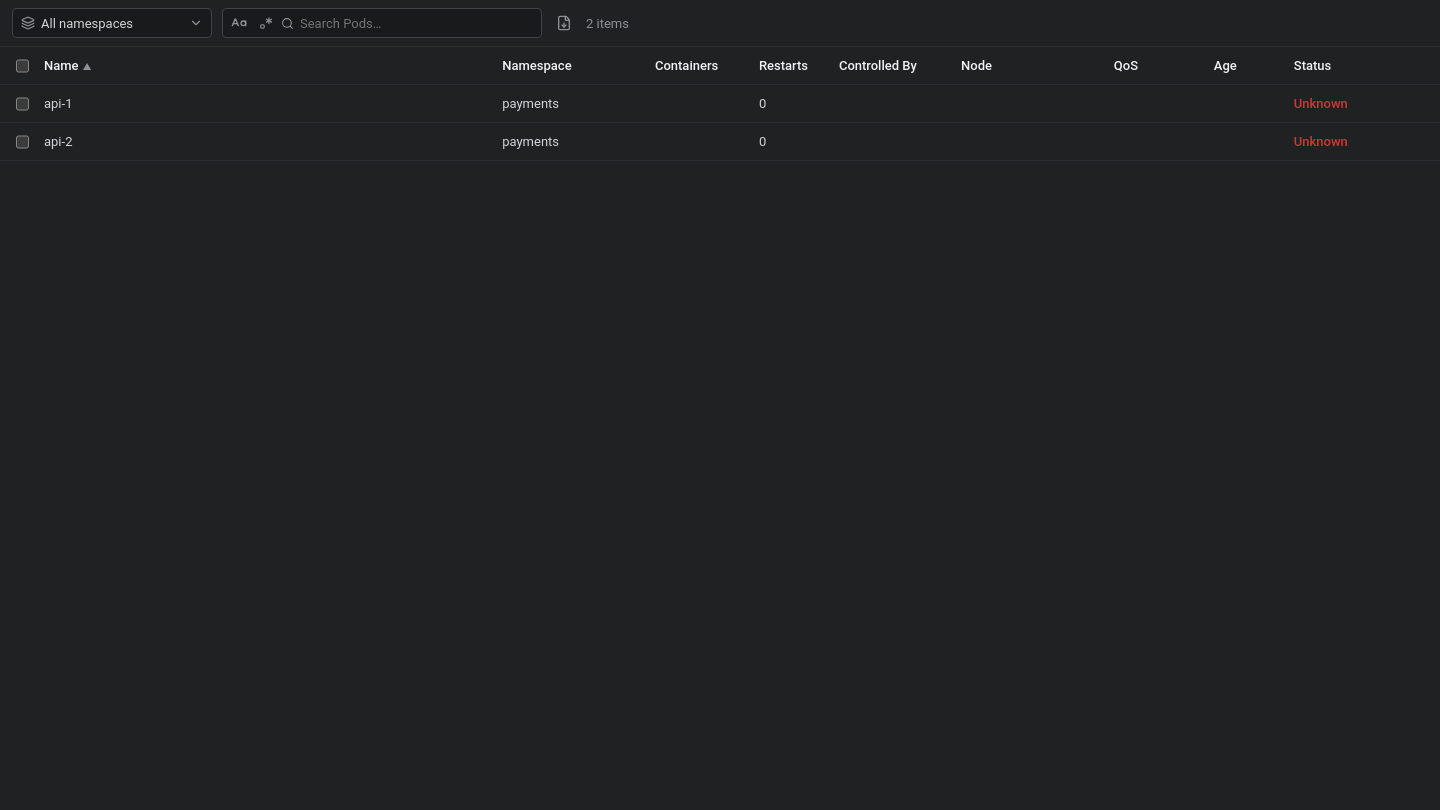
Test: deleting from a list › deletes nothing when the dialog is cancelled
This screenshot has width=1440, height=810.
Right-click the text "api-1".
right_click(58, 104)  # box [44,96,72,111]
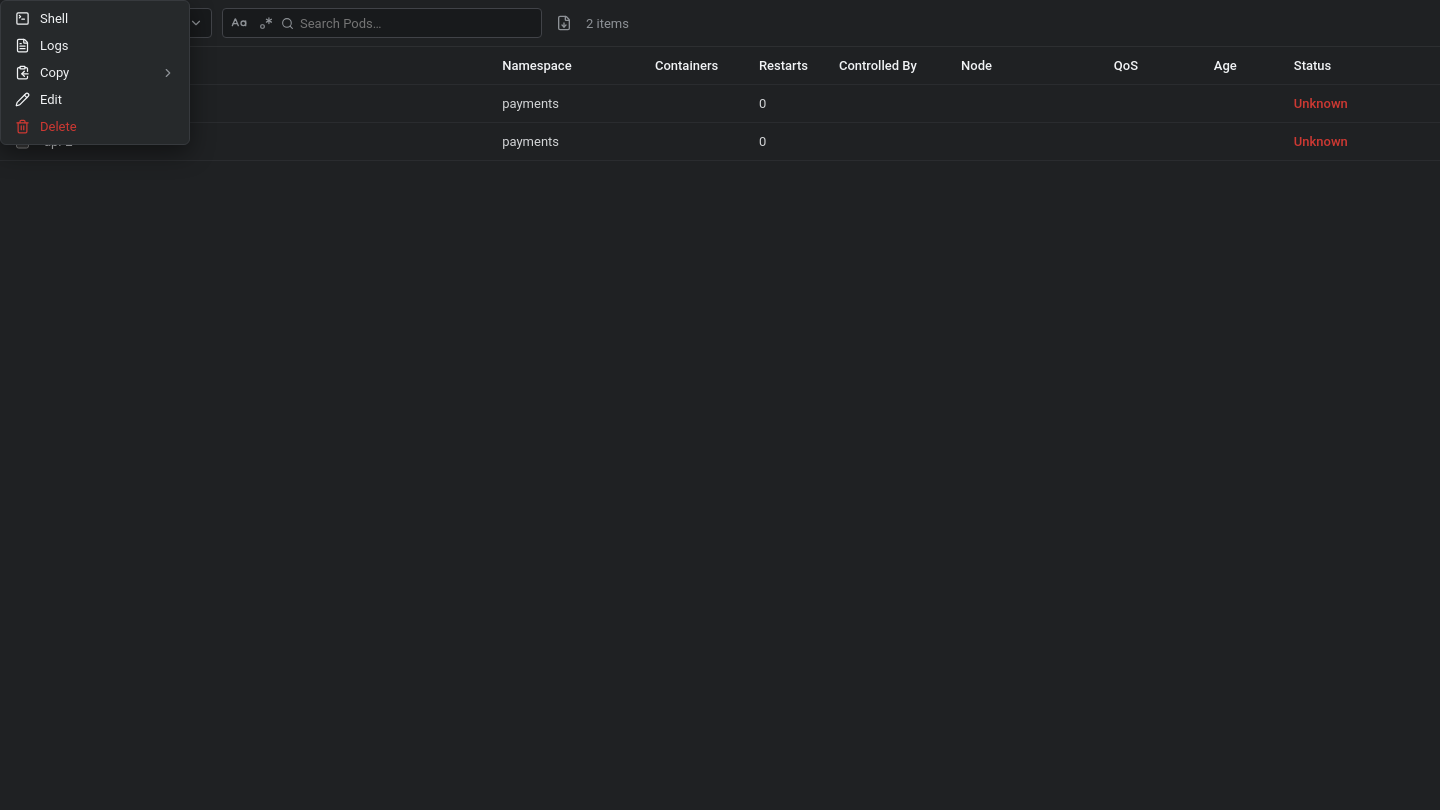
Click the text "Delete".
click(58, 126)  # box [40,119,77,134]
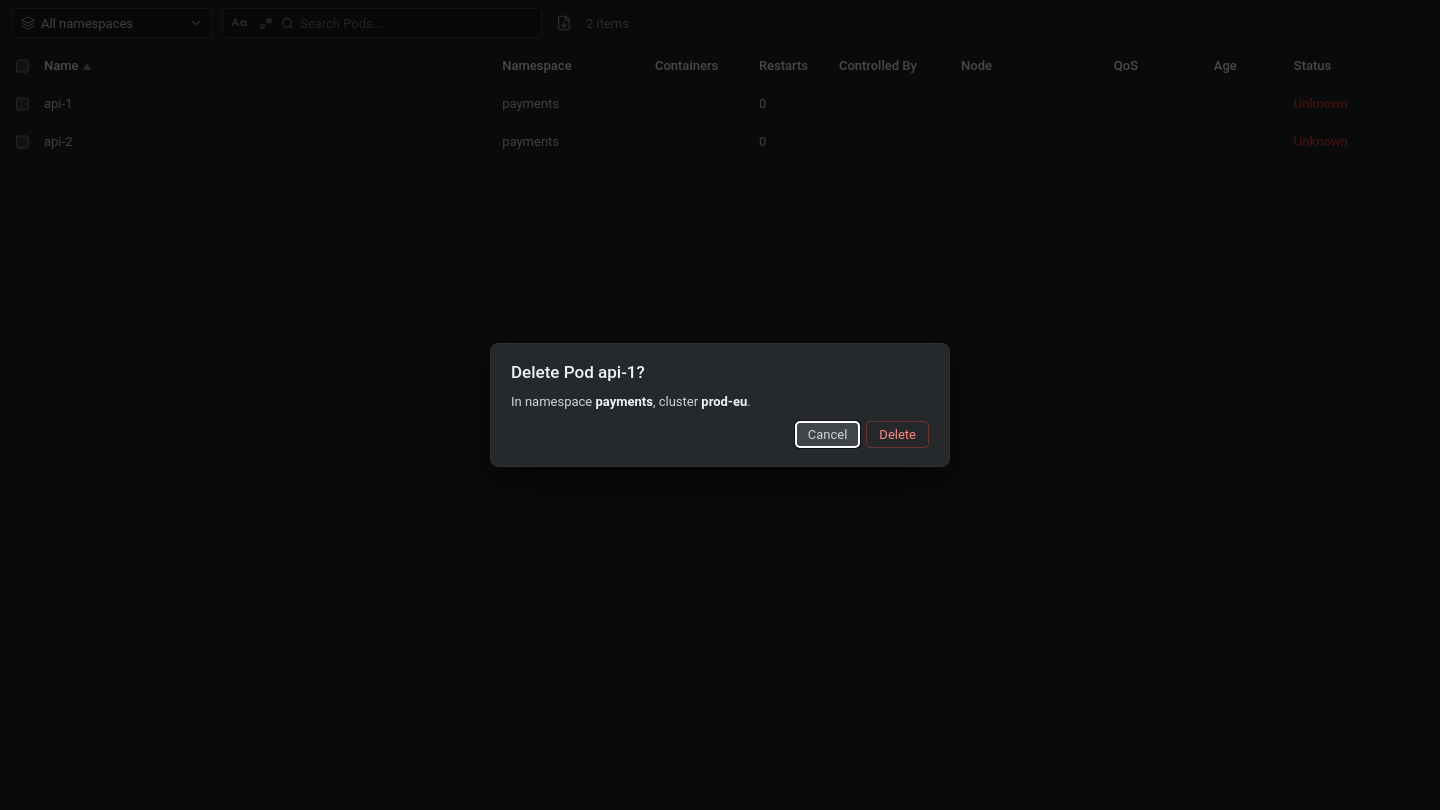
Check: the dialog shows "cluster prod-eu", box [490,343,950,467]
Click the button "Cancel".
click(828, 434)  # box [795,421,860,448]
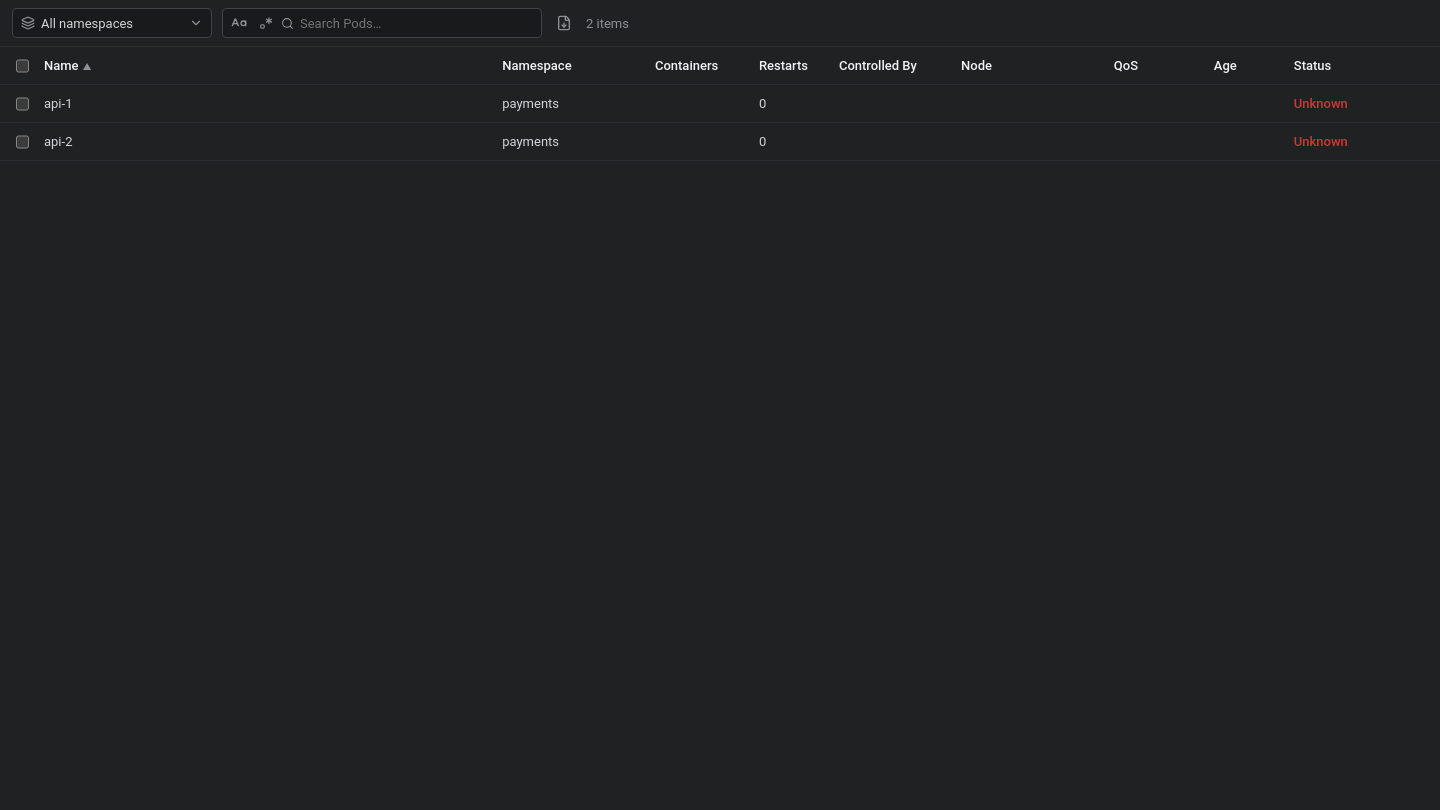
Check: the dialog is gone
